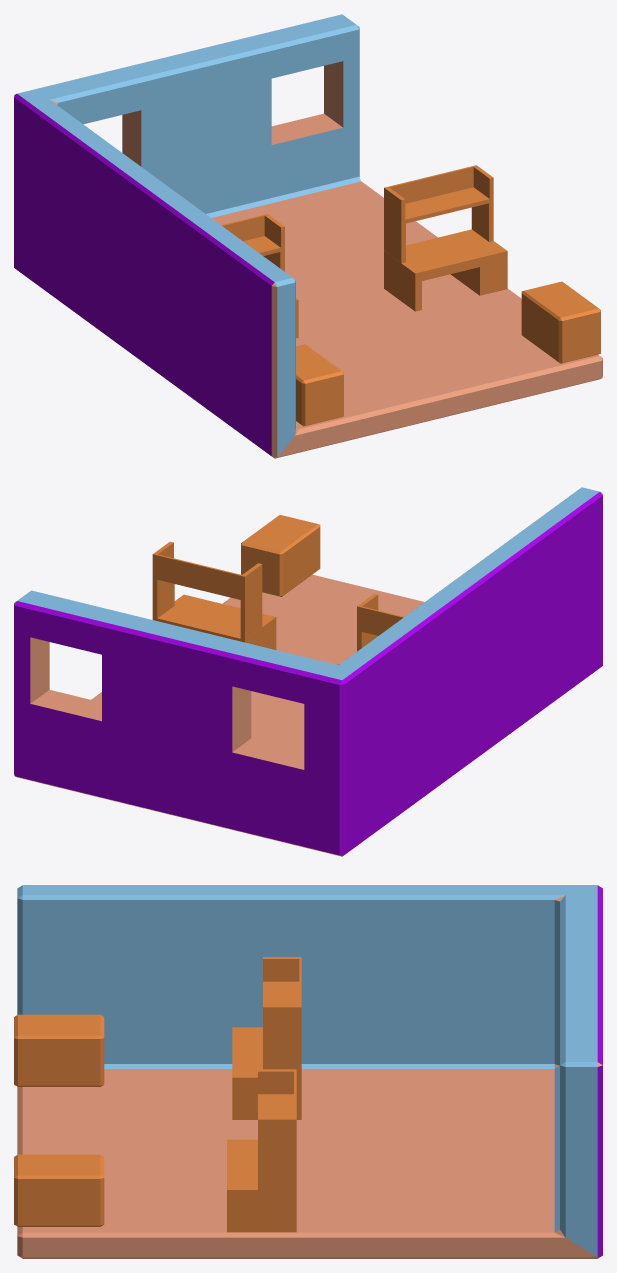
Rendered from double_room.glb.
The picture shows the model from 3 angles, top to bottom: view 1: azimuth 30°, elevation 25°; view 2: azimuth 150°, elevation 25°; view 3: azimuth 270°, elevation 25°; orthographic projection. The views are drawn at different scales.
Visible parts, largest first — view 1: Plane, Table.001, Drawer.001, Drawer, Table; view 2: Plane, Table.001, Drawer.001, Table; view 3: Plane, Table.001, Table, Drawer, Drawer.001.
Boxes of the visible parts, left/top/right/bottom form: Plane: left=14, top=14, right=602, bottom=458; Table.001: left=384, top=165, right=507, bottom=311; Drawer.001: left=521, top=281, right=600, bottom=363; Drawer: left=296, top=344, right=343, bottom=426; Table: left=221, top=214, right=298, bottom=338; Plane: left=14, top=487, right=602, bottom=856; Table.001: left=152, top=541, right=276, bottom=649; Drawer.001: left=241, top=515, right=320, bottom=596; Table: left=357, top=593, right=403, bottom=651; Plane: left=17, top=885, right=602, bottom=1258; Table.001: left=227, top=1069, right=296, bottom=1232; Table: left=232, top=957, right=301, bottom=1119; Drawer: left=14, top=1014, right=104, bottom=1086; Drawer.001: left=14, top=1154, right=104, bottom=1226.
Bounding box in the file's own units: 7.97 × 4.06 × 11.01.
